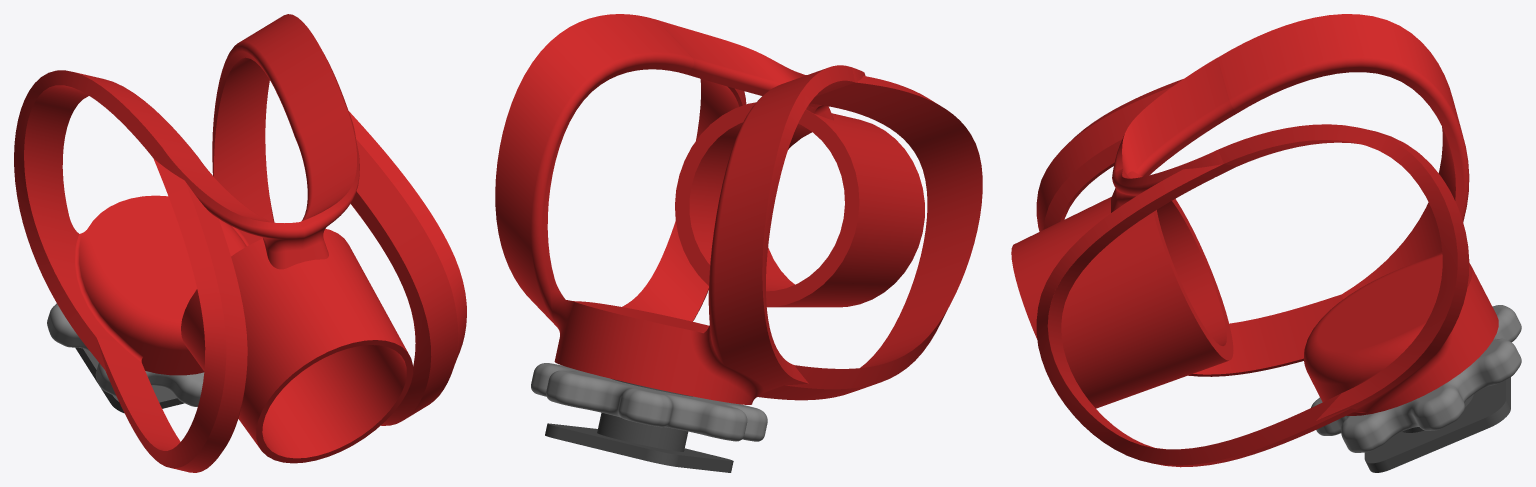
Rendered from mic_mount.dae.
The picture shows the model from 3 angles, left to right: view 1: azimuth 30°, elevation 25°; view 2: azimuth 150°, elevation 25°; view 3: azimuth 270°, elevation 25°; orthographic projection. The views are drawn at different scales.
Visible parts, largest first — view 1: HELIX_Isolation_Mount, Mount_nut, Mount_base; view 2: HELIX_Isolation_Mount, Mount_nut, Mount_base; view 3: HELIX_Isolation_Mount, Mount_nut, Mount_base.
Boxes of the visible parts, left/top/right/bottom form: HELIX_Isolation_Mount: left=14, top=14, right=466, bottom=472; Mount_nut: left=47, top=303, right=204, bottom=406; Mount_base: left=75, top=347, right=184, bottom=413; HELIX_Isolation_Mount: left=495, top=14, right=982, bottom=404; Mount_nut: left=531, top=363, right=767, bottom=441; Mount_base: left=545, top=379, right=733, bottom=472; HELIX_Isolation_Mount: left=1011, top=14, right=1498, bottom=467; Mount_nut: left=1311, top=305, right=1521, bottom=452; Mount_base: left=1364, top=377, right=1510, bottom=472.
Bounding box in the file's own units: 0.0408 × 0.0655 × 0.0536.
